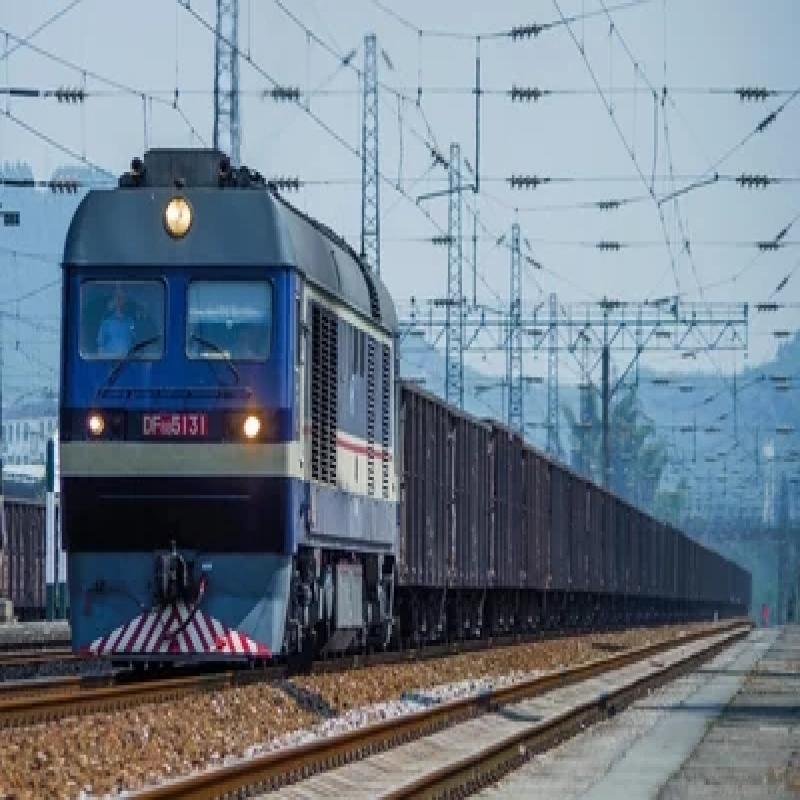train: (35, 143, 405, 674)
